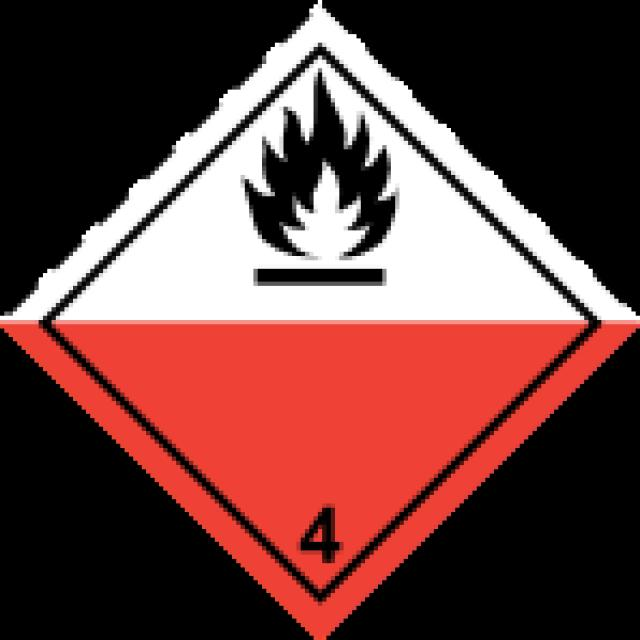Division 4-2: (4, 4, 640, 640)
